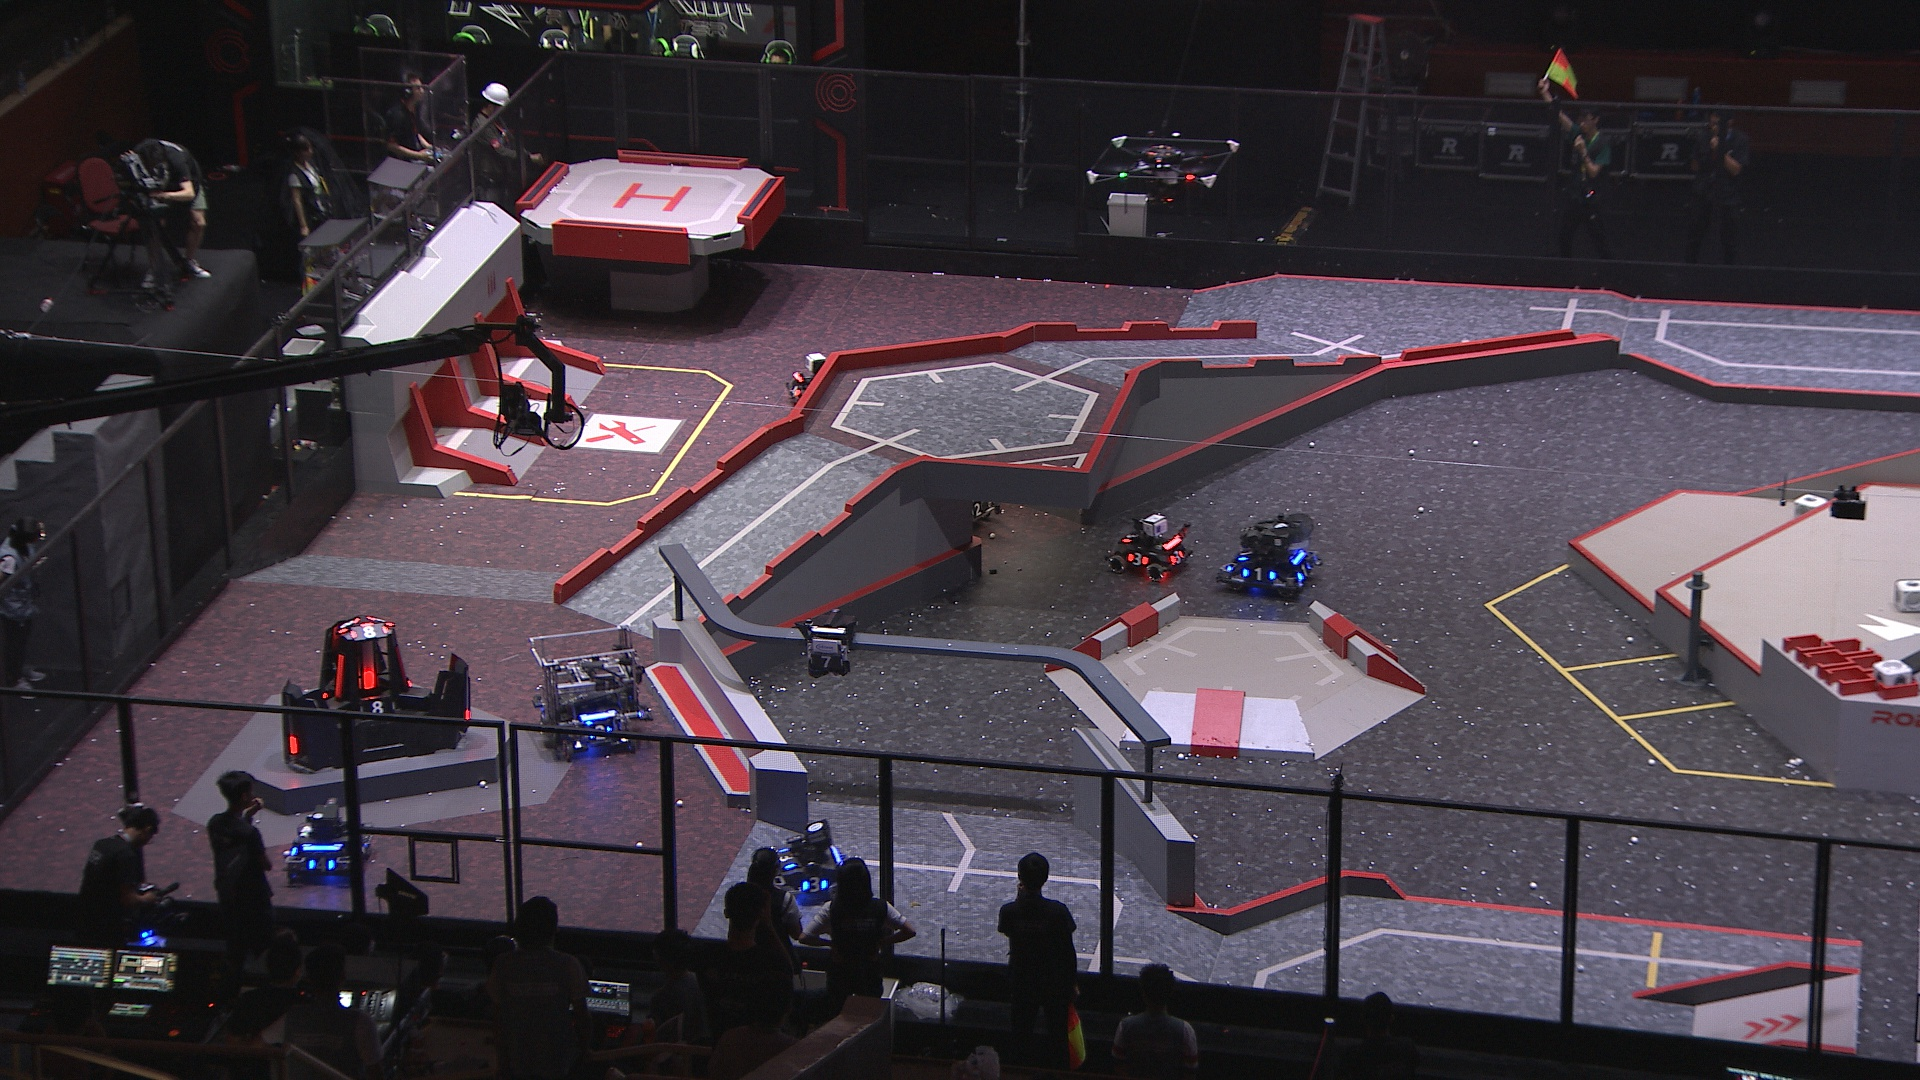armor: (347, 624, 389, 644), (584, 723, 615, 744), (1240, 566, 1276, 583), (306, 856, 338, 876), (800, 874, 829, 895), (334, 654, 347, 700), (775, 847, 796, 872), (357, 666, 377, 692), (814, 651, 841, 670), (1125, 551, 1153, 567), (284, 735, 299, 760), (968, 500, 986, 518), (1168, 547, 1185, 567), (1295, 560, 1309, 582), (787, 382, 802, 400), (1120, 531, 1135, 546), (1236, 549, 1249, 562), (463, 708, 471, 727)
base: (278, 617, 473, 774)
car: (526, 624, 650, 760), (1212, 514, 1324, 603), (906, 436, 1001, 533), (765, 816, 855, 907), (278, 799, 373, 885), (1102, 510, 1193, 582), (783, 353, 855, 414)
ignore: (357, 699, 400, 717)
watcher: (798, 612, 858, 680)
